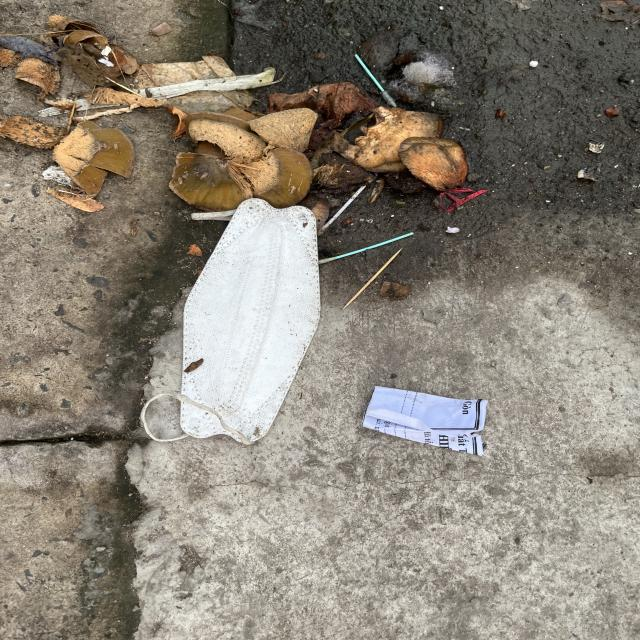mask: (140, 198, 322, 444)
paper: (361, 385, 488, 456)
